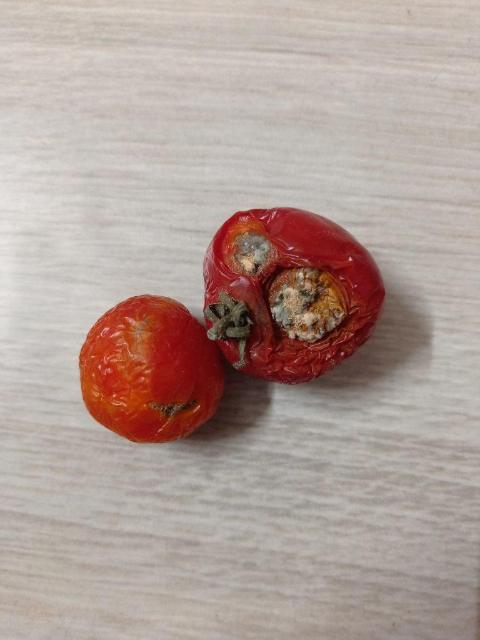defect: (198, 203, 390, 383), (77, 292, 230, 445)
